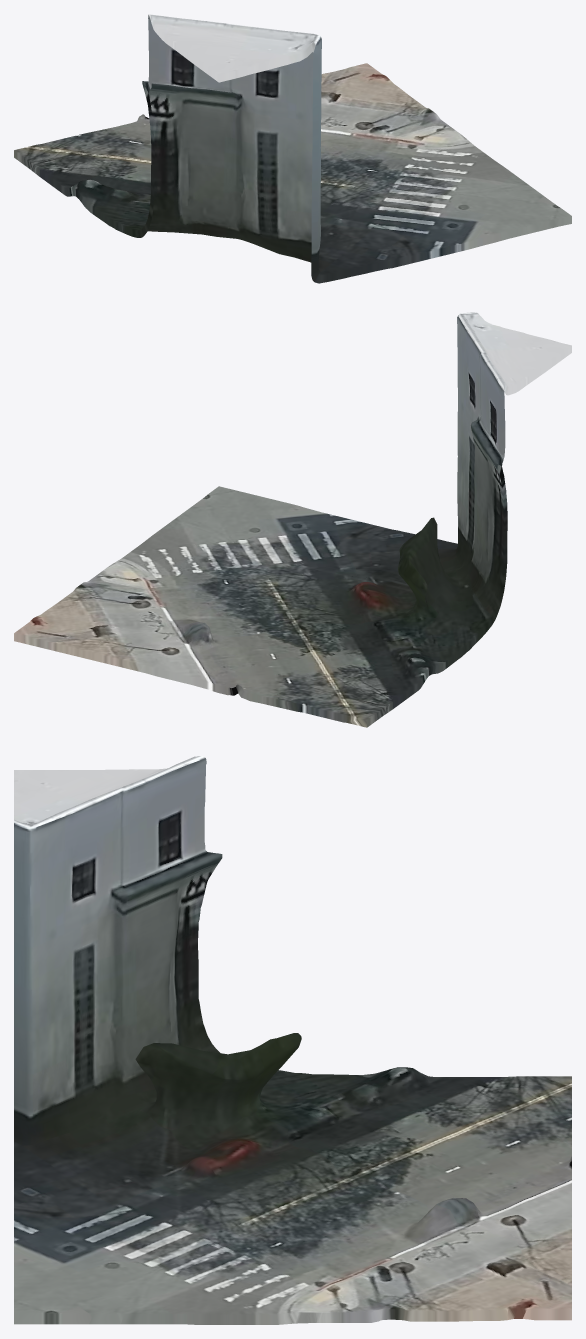
File: z20-167791-405229-h0-yup-uvflip-v3-world.glb
3 renders of one model, top to bottom at view 1: azimuth 30°, elevation 25°; view 2: azimuth 150°, elevation 25°; view 3: azimuth 270°, elevation 25°, orthographic. The views are drawn at different scales.
Bounding box in the file's own units: 30.16 × 20.04 × 30.32.
1 material, 1 textured.
